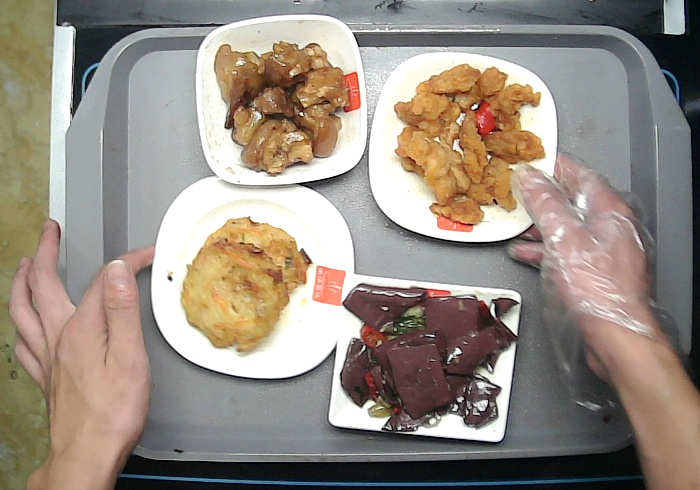SHKJ-Bai_Se_Cai_Die: (366, 49, 559, 244)
SHKJ-Bai_Se_Si_Fang_Cai_Die: (149, 174, 356, 382)
SHKJ-Bai_Se_Xiao_Fang_Die: (191, 11, 370, 188)
SHKJ-Si_Fang_Min: (324, 270, 524, 445)
